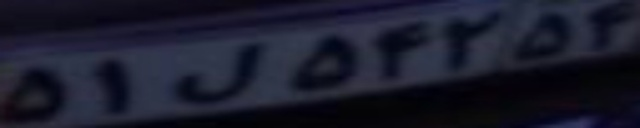1: (93, 58, 142, 113)
2: (442, 12, 496, 74)
4: (367, 22, 439, 79), (584, 3, 636, 54)
5: (291, 35, 361, 91), (3, 67, 64, 123), (515, 11, 578, 61)
lam: (167, 45, 264, 103)
